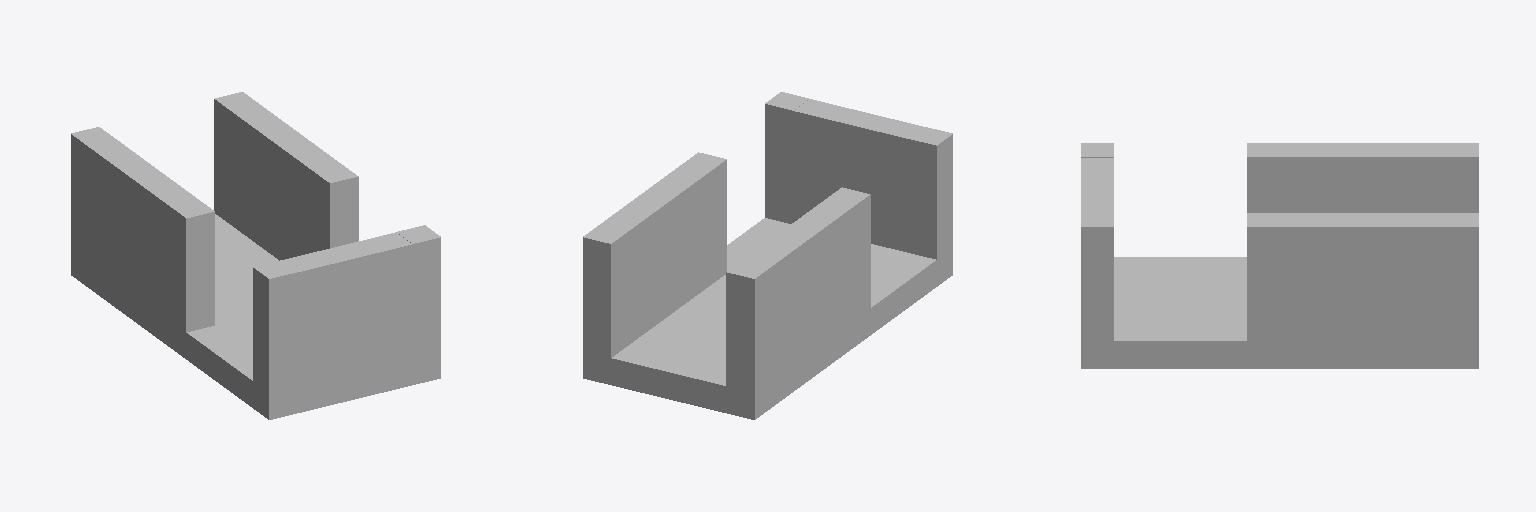
Rendered from module2.obj.
The picture shows the model from 3 angles: view 1: azimuth 30°, elevation 25°; view 2: azimuth 150°, elevation 25°; view 3: azimuth 270°, elevation 25°; orthographic projection.
Visible parts, largest first — view 1: Cube.001; view 2: Cube.001; view 3: Cube.001.
Boxes of the visible parts, <box> form: Cube.001: <box>71,92,440,419</box>; Cube.001: <box>583,92,952,419</box>; Cube.001: <box>1081,143,1478,368</box>.
Bounding box in the file's own units: 6 × 4.7 × 12.